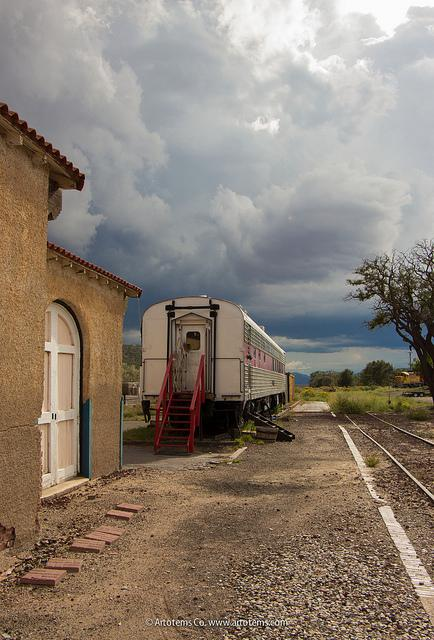Train: (139, 296, 289, 428)
